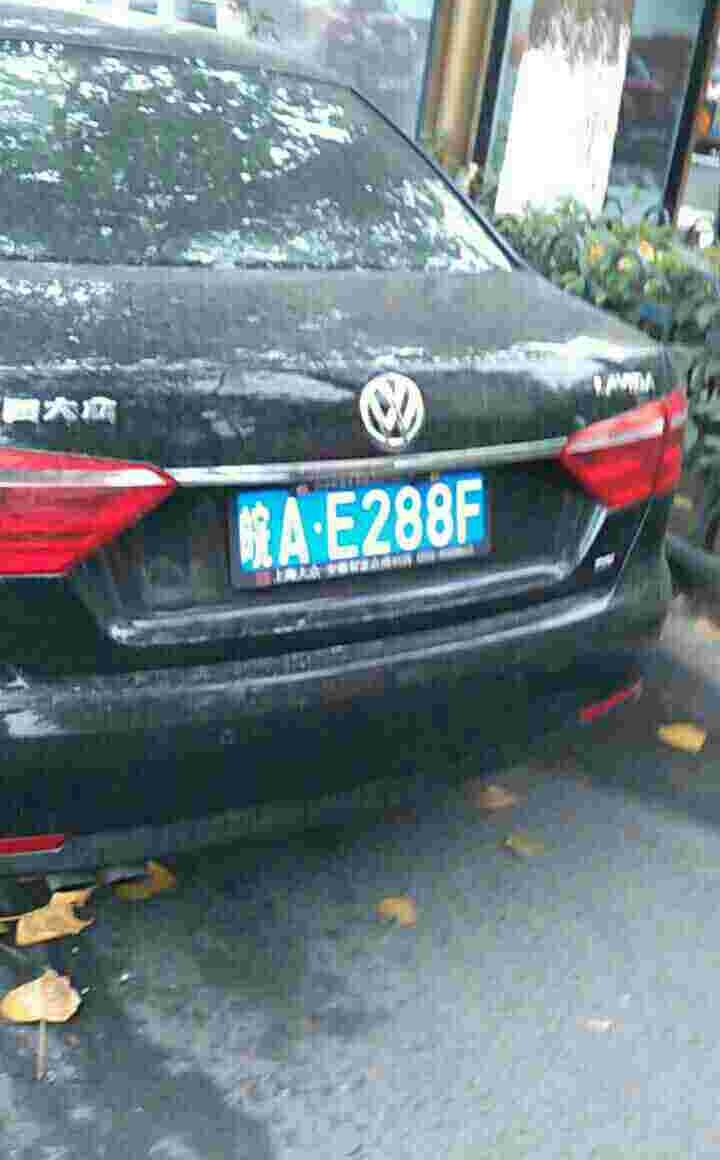license_plate: (237, 470, 492, 584)
